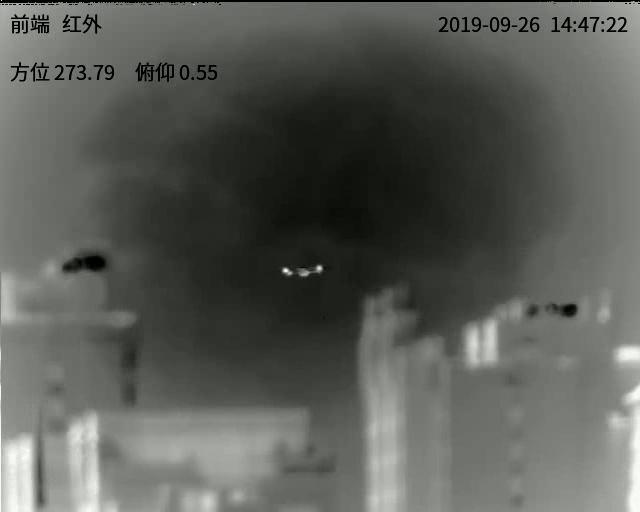DRONE: (280, 263, 324, 277)
